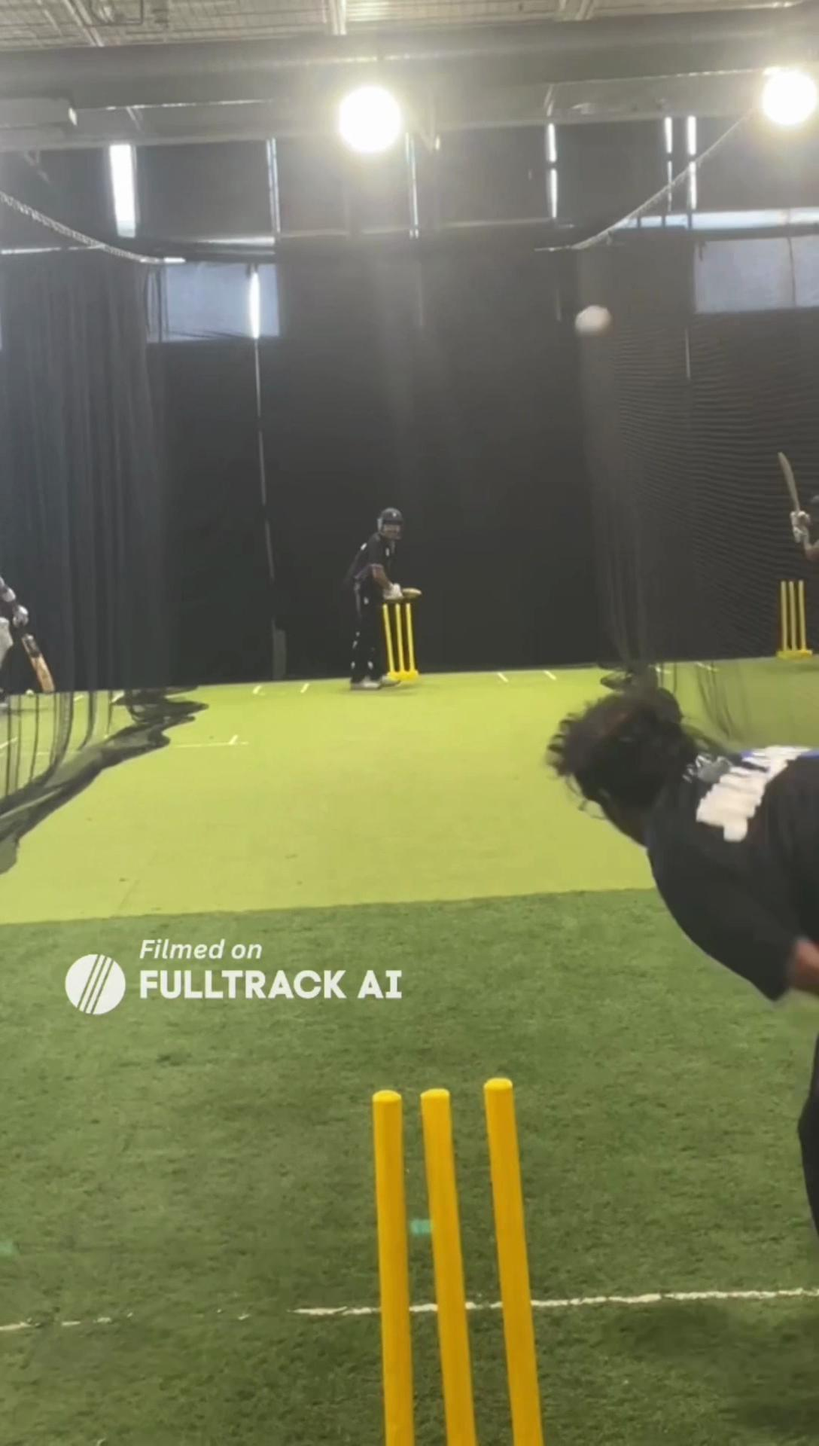ball: (572, 294, 614, 359)
